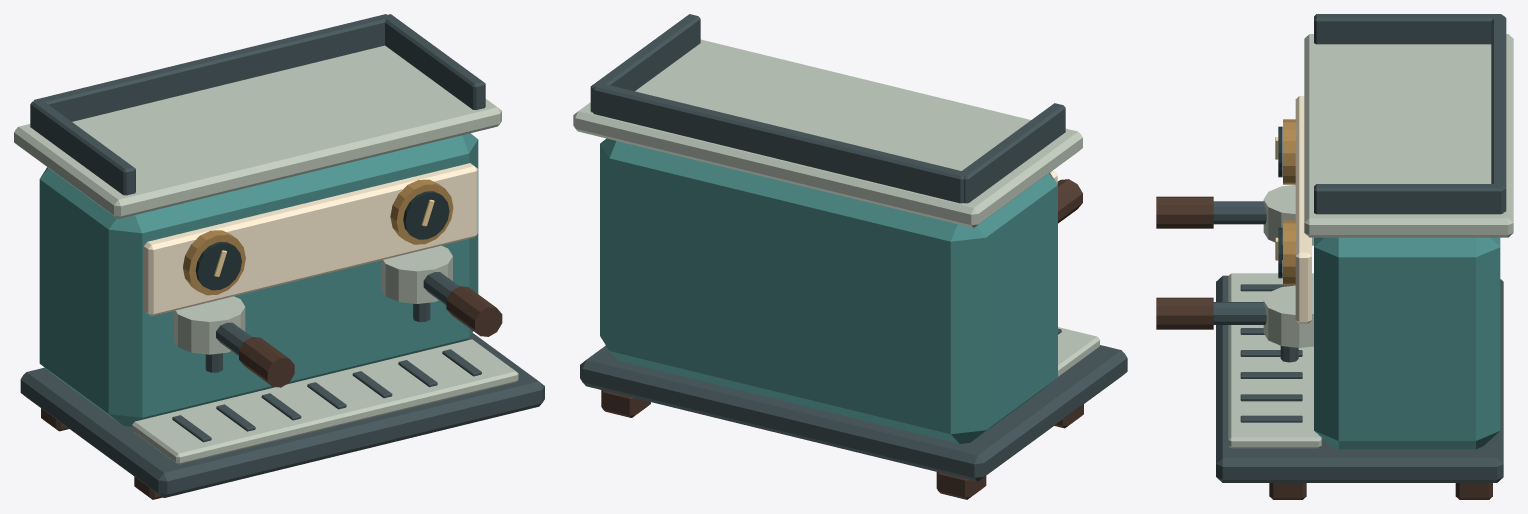
Rendered from 02_Espresso_Machine.glb.
3 renders of one model, left to right at view 1: azimuth 30°, elevation 25°; view 2: azimuth 150°, elevation 25°; view 3: azimuth 270°, elevation 25°, orthographic. The views are drawn at different scales.
Visible parts, largest first — view 1: 02_Espresso_Machine__Body; view 2: 02_Espresso_Machine__Body; view 3: 02_Espresso_Machine__Body.
Boxes of the visible parts, bbox=[...] form: 02_Espresso_Machine__Body: bbox=[14, 14, 544, 499]; 02_Espresso_Machine__Body: bbox=[573, 14, 1127, 499]; 02_Espresso_Machine__Body: bbox=[1156, 14, 1513, 499].
Bounding box in the file's own units: 2.73 × 2.12 × 2.19.
Materials: 1 (1 with a texture image).
